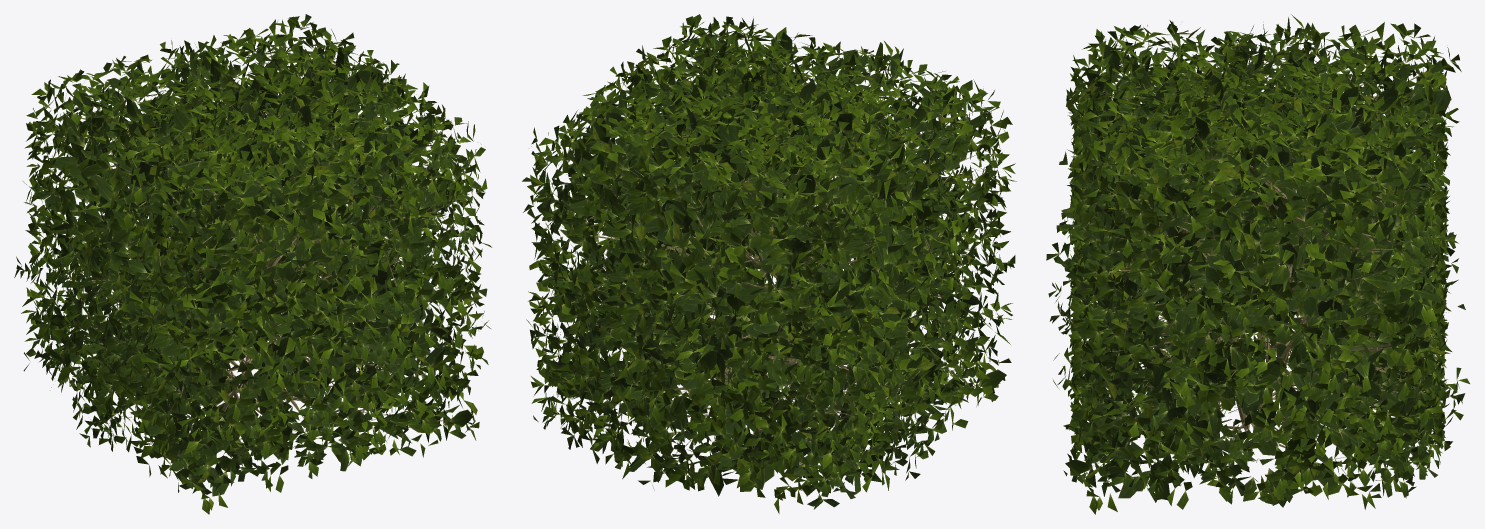
The model's file is bush_square.glb.
3 views of the same model, side by side, from view 1: azimuth 30°, elevation 25°; view 2: azimuth 150°, elevation 25°; view 3: azimuth 270°, elevation 25° (orthographic). The views are drawn at different scales.
Visible parts, largest first — view 1: Object_2; view 2: Object_2; view 3: Object_2.
Part boxes in pixels (x1,y1,x2,y2): Object_2: (14, 14, 492, 514); Object_2: (522, 14, 1016, 513); Object_2: (1046, 14, 1469, 514).
Size of the model in its own units: 8.67 by 8.19 by 8.67.
1 material, 1 textured.
